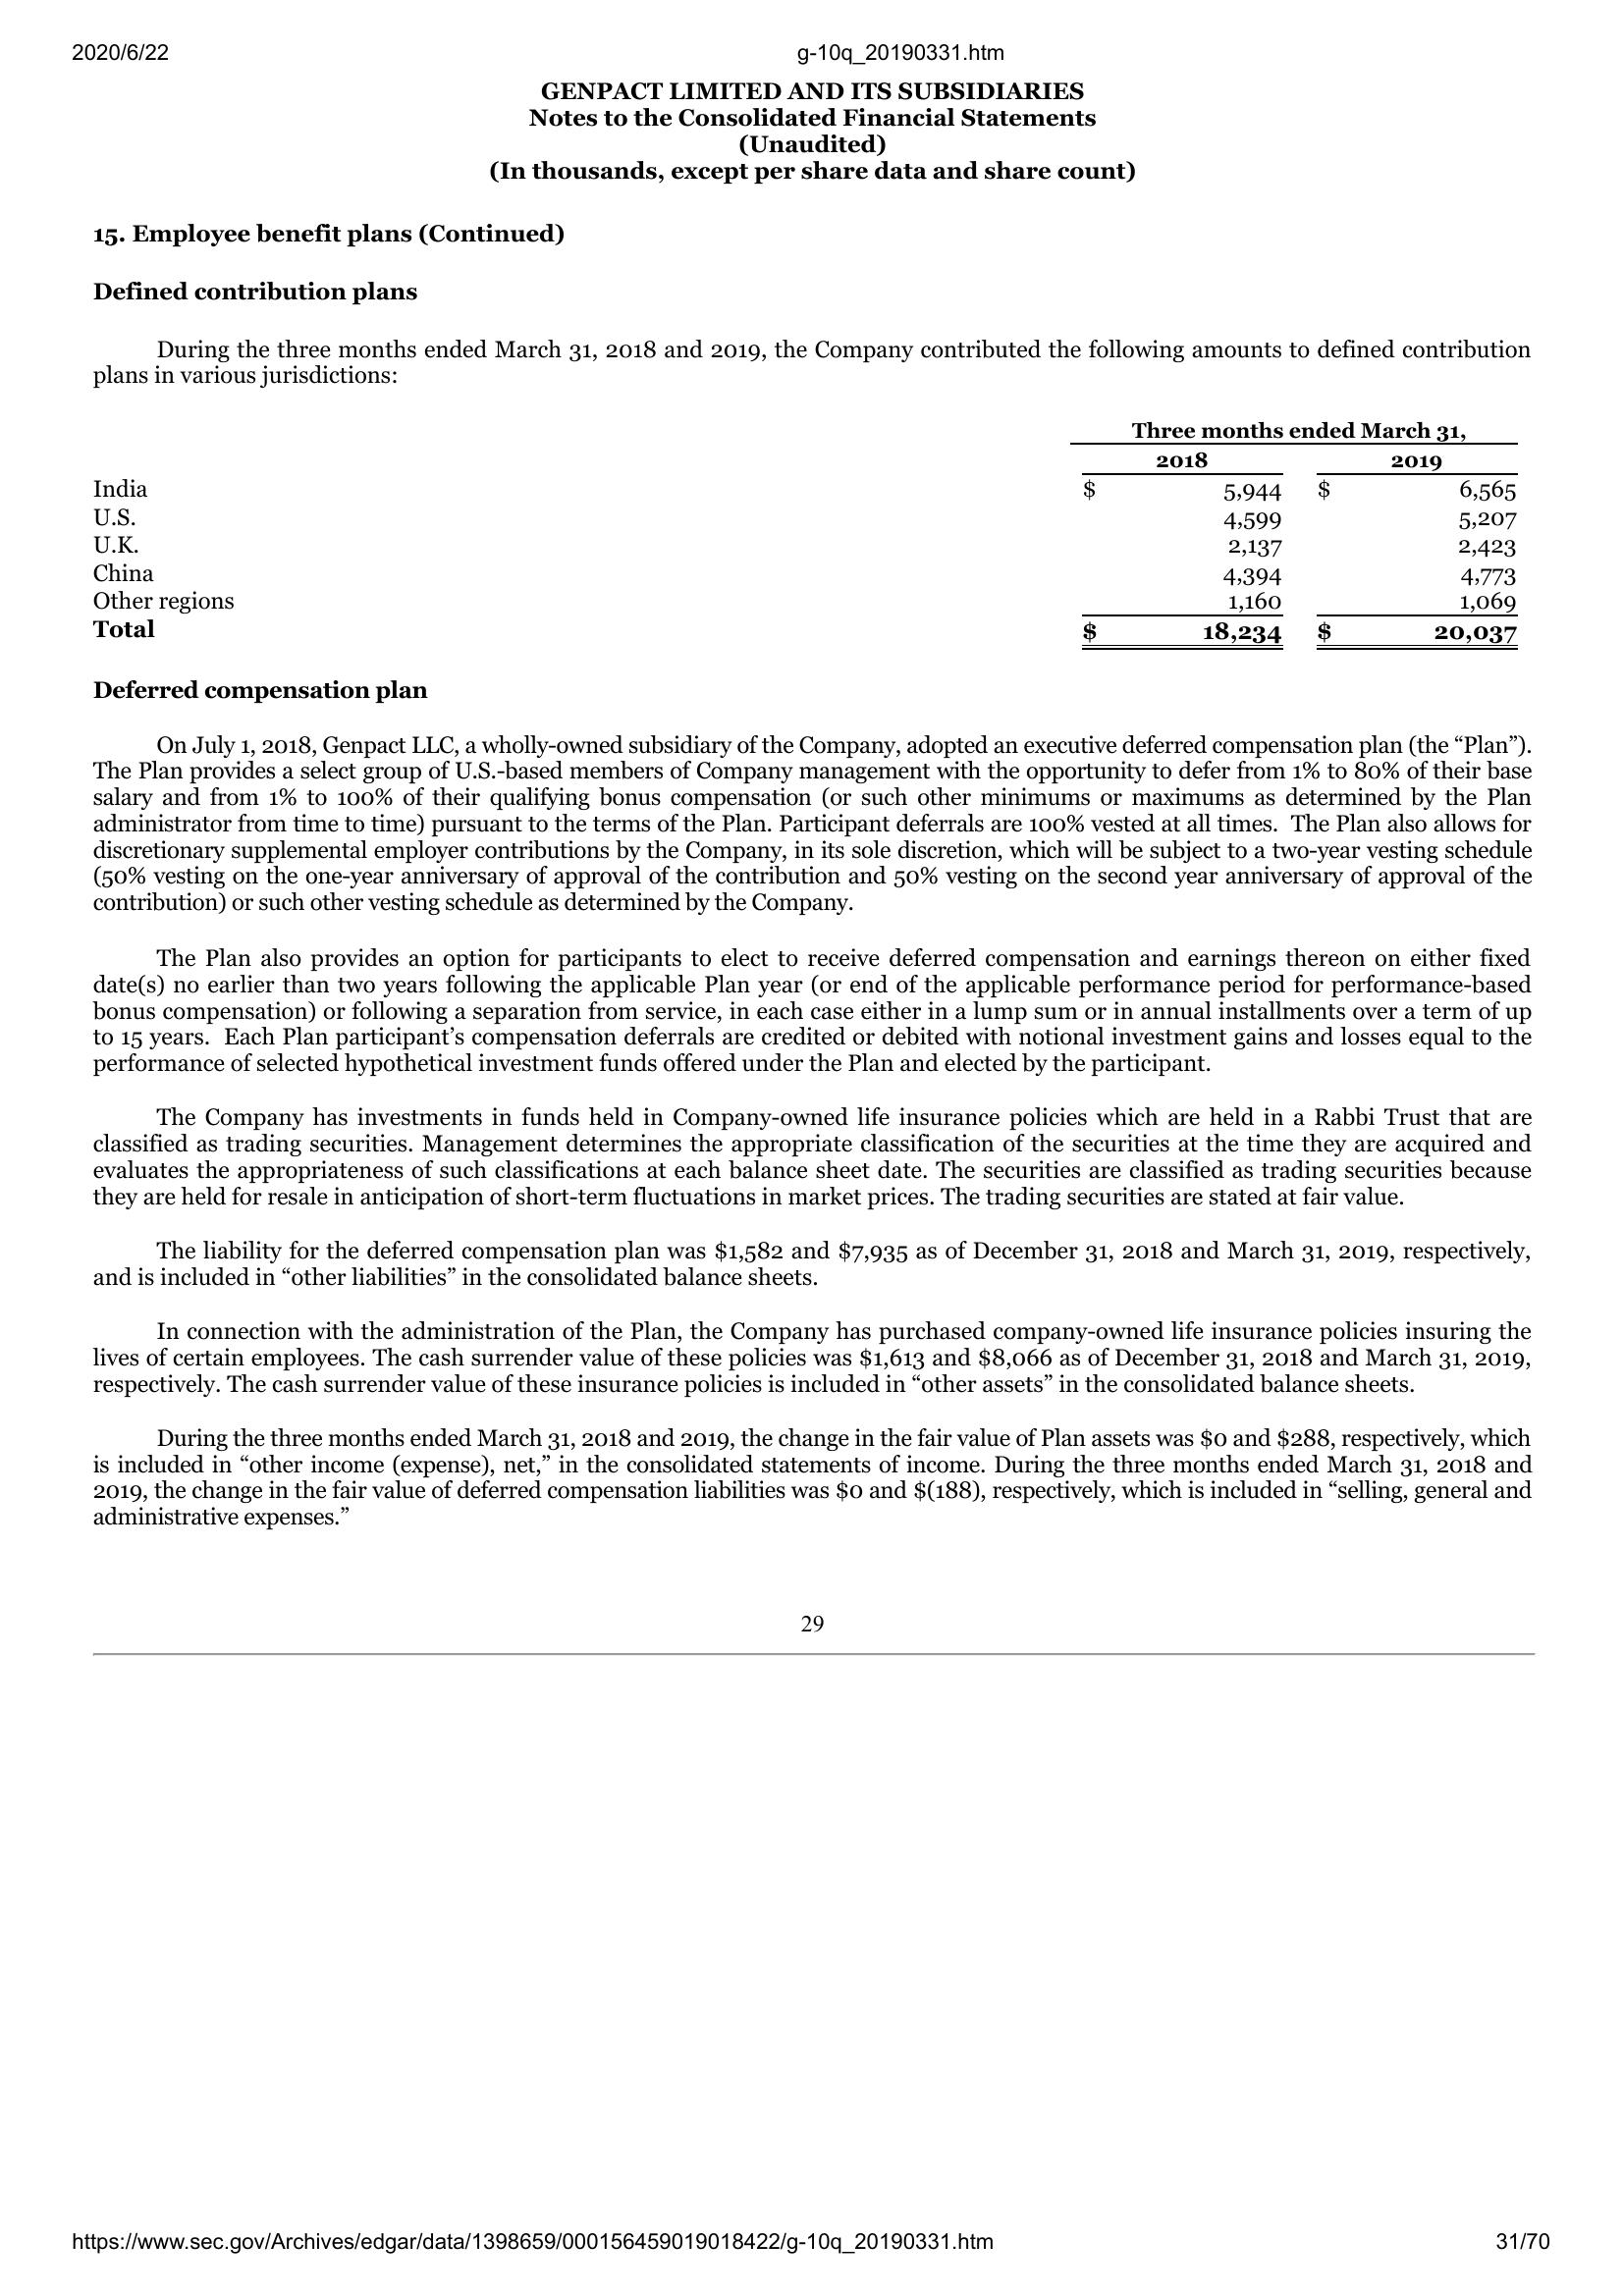table: (88, 416, 1525, 657)
